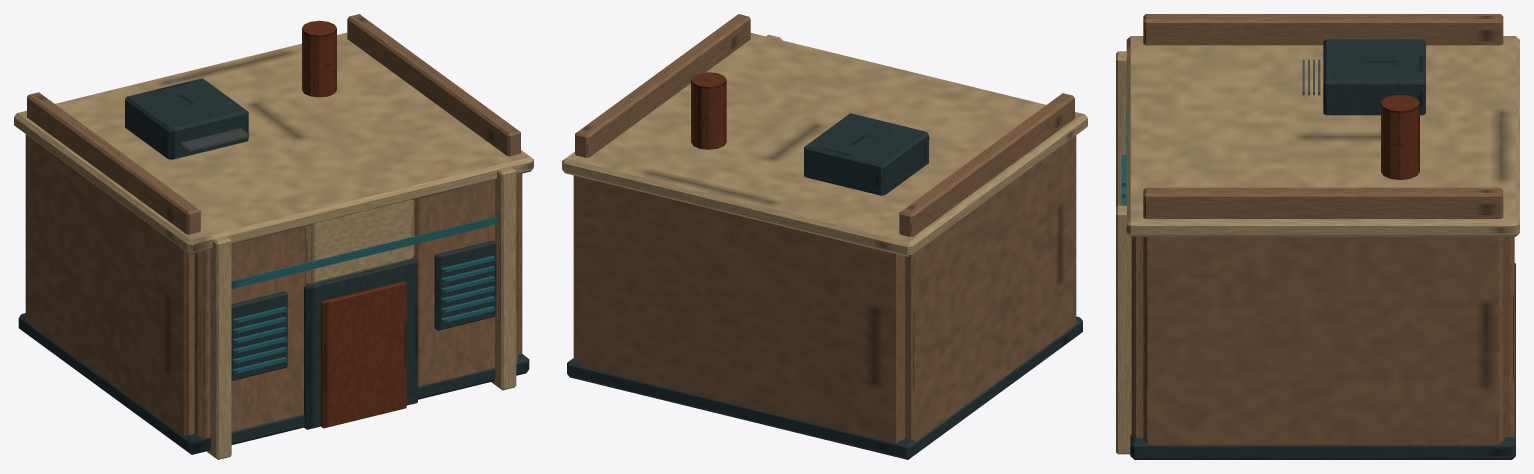
The model's file is building.glb.
3 renders of one model, left to right at view 1: azimuth 30°, elevation 25°; view 2: azimuth 150°, elevation 25°; view 3: azimuth 270°, elevation 25°, orthographic. The views are drawn at different scales.
Visible parts, largest first — view 1: building_plaster, building_pale, building_metal, building_rust, building_paint, building_rubber; view 2: building_plaster, building_pale, building_metal, building_rust; view 3: building_plaster, building_pale, building_metal, building_rust.
Boxes of the visible parts, x1,y1,x2,y2 form: building_plaster: [25, 14, 522, 438]; building_pale: [14, 32, 533, 459]; building_metal: [18, 78, 529, 454]; building_rust: [302, 20, 406, 428]; building_paint: [231, 216, 497, 374]; building_rubber: [180, 127, 249, 151]; building_plaster: [573, 14, 1076, 443]; building_pale: [562, 33, 1087, 257]; building_metal: [567, 113, 1082, 459]; building_rust: [691, 72, 726, 149]; building_plaster: [1131, 14, 1514, 444]; building_pale: [1116, 36, 1519, 454]; building_metal: [1130, 39, 1515, 459]; building_rust: [1381, 94, 1419, 179].
Size of the model in its own units: 8.65 by 6.75 by 7.85.
Materials: 6 (5 with a texture image).
